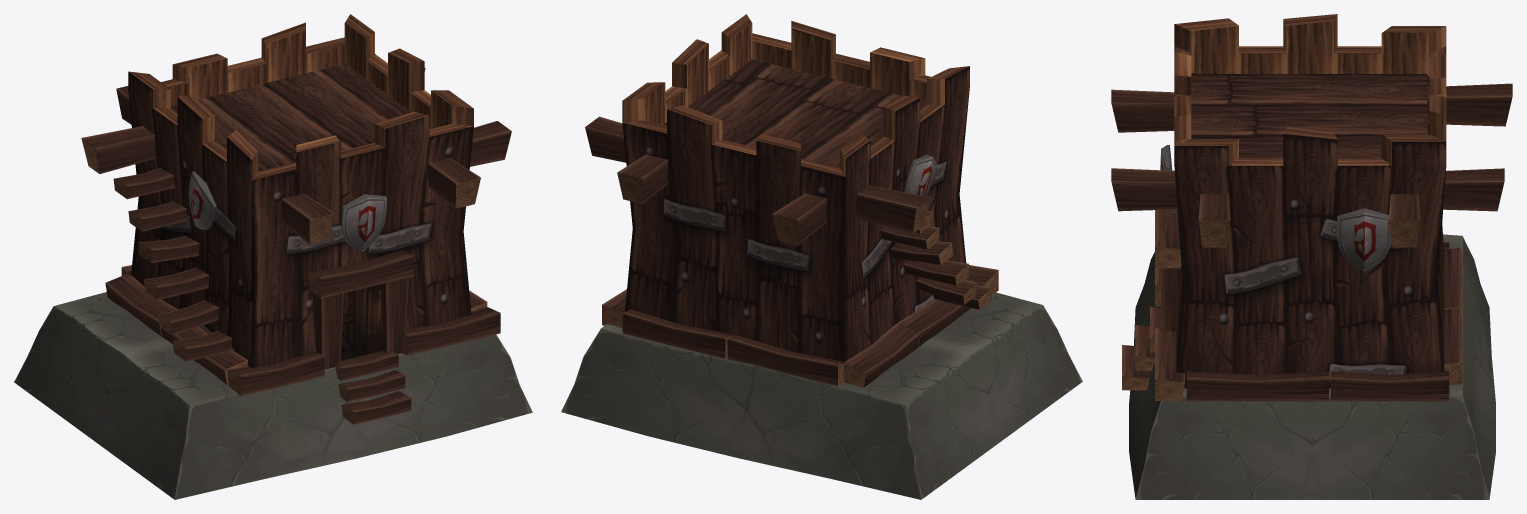
The model's file is Barrack.FBX.
3 views of the same model, side by side, from view 1: azimuth 30°, elevation 25°; view 2: azimuth 150°, elevation 25°; view 3: azimuth 270°, elevation 25° (orthographic). The views are drawn at different scales.
Visible parts, largest first — view 1: Box045, Box047, Box044, Box046; view 2: Box045, Box047, Box044; view 3: Box045, Box047, Box044.
Boxes of the visible parts, left/top/right/bottom form: Box045: left=128, top=14, right=473, bottom=367; Box047: left=14, top=292, right=532, bottom=499; Box044: left=81, top=68, right=511, bottom=424; Box046: left=340, top=284, right=382, bottom=360; Box045: left=622, top=14, right=969, bottom=361; Box047: left=561, top=292, right=1082, bottom=499; Box044: left=585, top=116, right=998, bottom=387; Box045: left=1160, top=14, right=1446, bottom=388; Box047: left=1129, top=234, right=1495, bottom=499; Box044: left=1111, top=83, right=1512, bottom=401.
Bounding box in the file's own units: 88.76 × 72.54 × 76.58.
